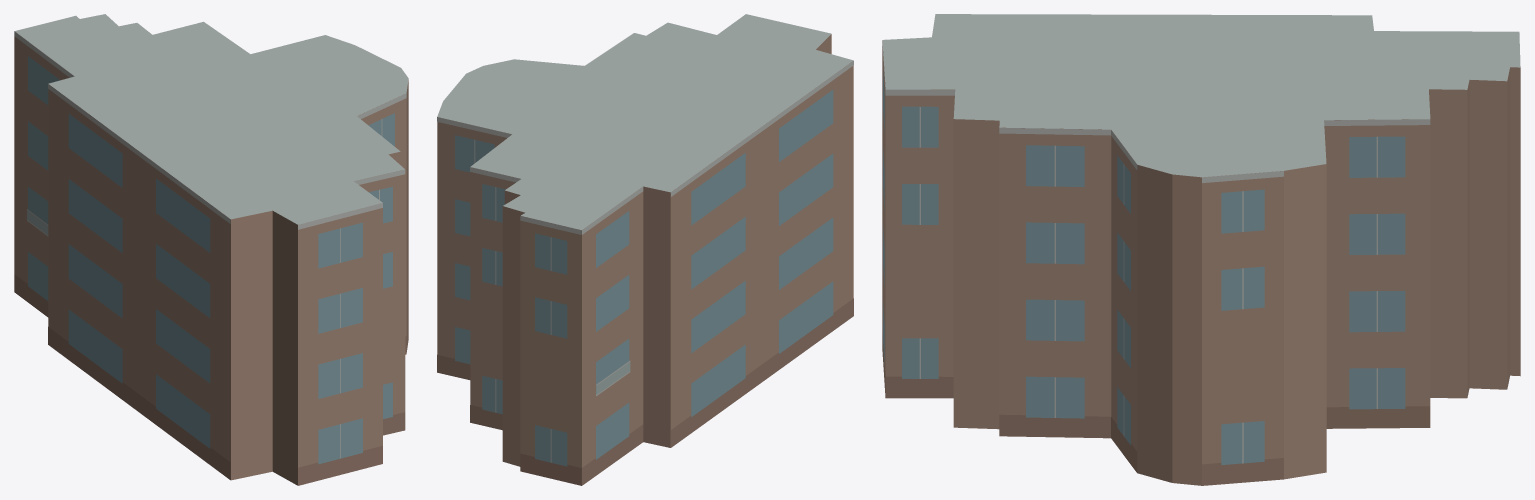
File: survey-upis-32816127.glb
The picture shows the model from 3 angles, left to right: view 1: azimuth 30°, elevation 25°; view 2: azimuth 150°, elevation 25°; view 3: azimuth 270°, elevation 25°; orthographic projection. The views are drawn at different scales.
Parts seen in each view (by area): view 1: survey-upis-32816127.tmp; view 2: survey-upis-32816127.tmp; view 3: survey-upis-32816127.tmp.
Part boxes in pixels (x1,y1,x2,y2): survey-upis-32816127.tmp: [14, 14, 408, 485]; survey-upis-32816127.tmp: [437, 14, 853, 485]; survey-upis-32816127.tmp: [882, 14, 1520, 485].
Size of the model in its own units: 14.59 by 12.85 by 24.09.
